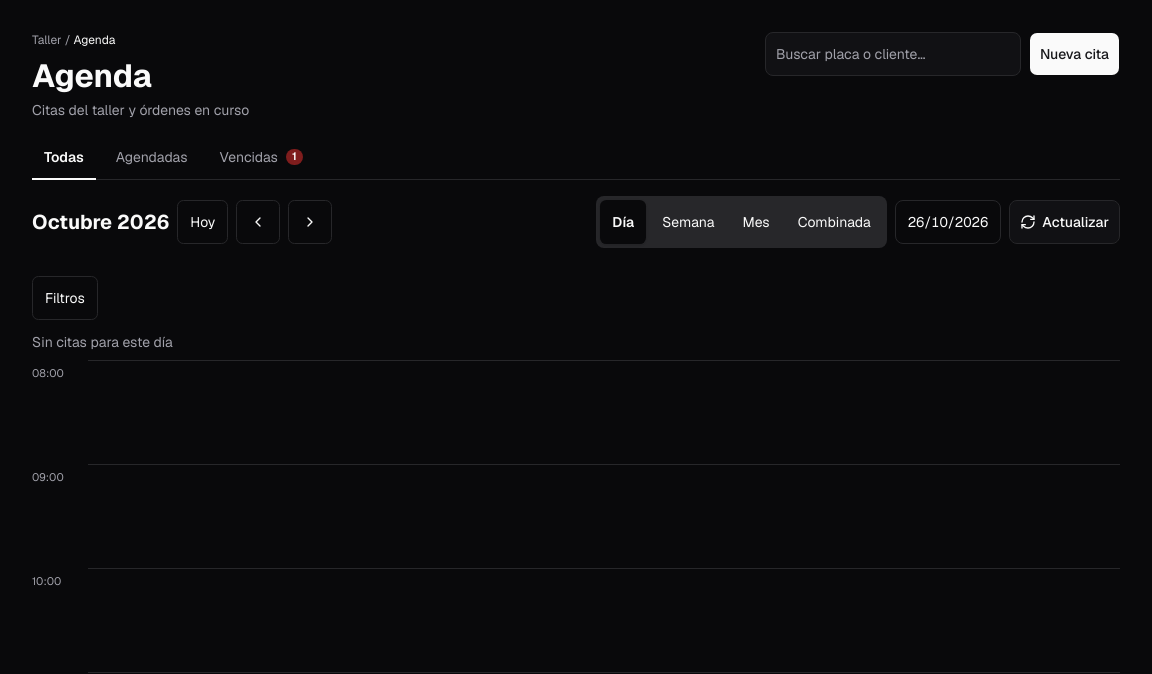
Test: AgendaPage Vencidas and combined › Tabs on every view: day shows the Vencidas badge and, opened, the list with its full date
The image size is (1152, 674).
Click the tab "Vencidas 1" at point(261, 158), box [208,136,314,180]
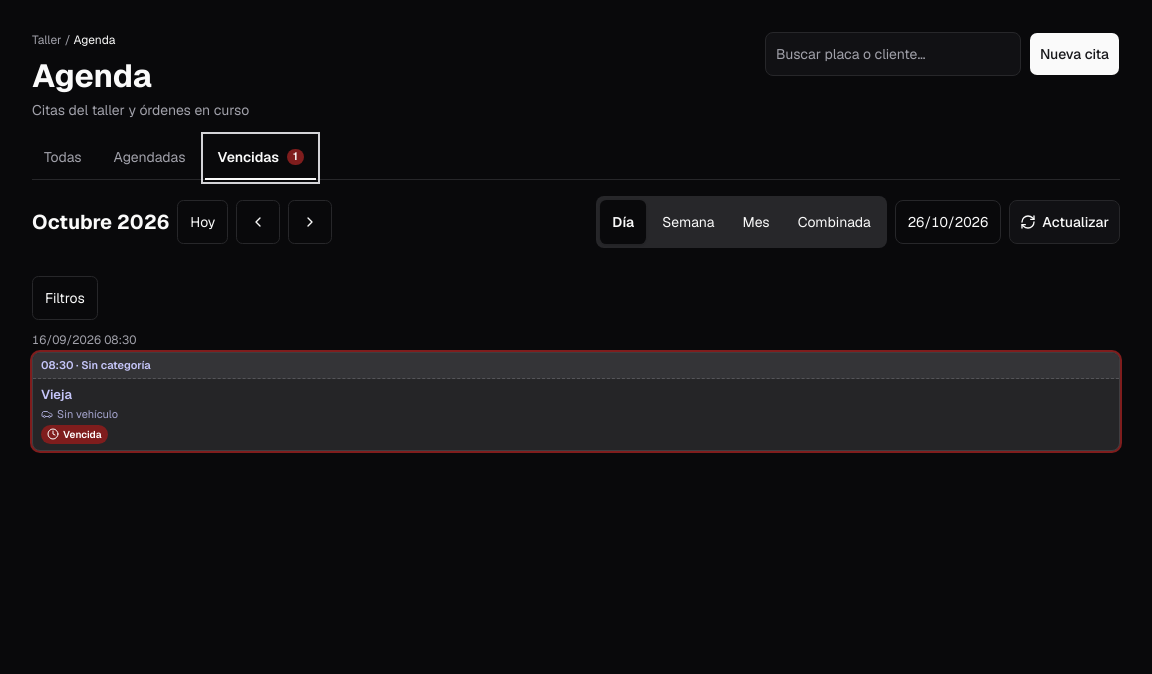
Now the text "16/09/2026 08:30" is shown, box [32,332,136,348]
